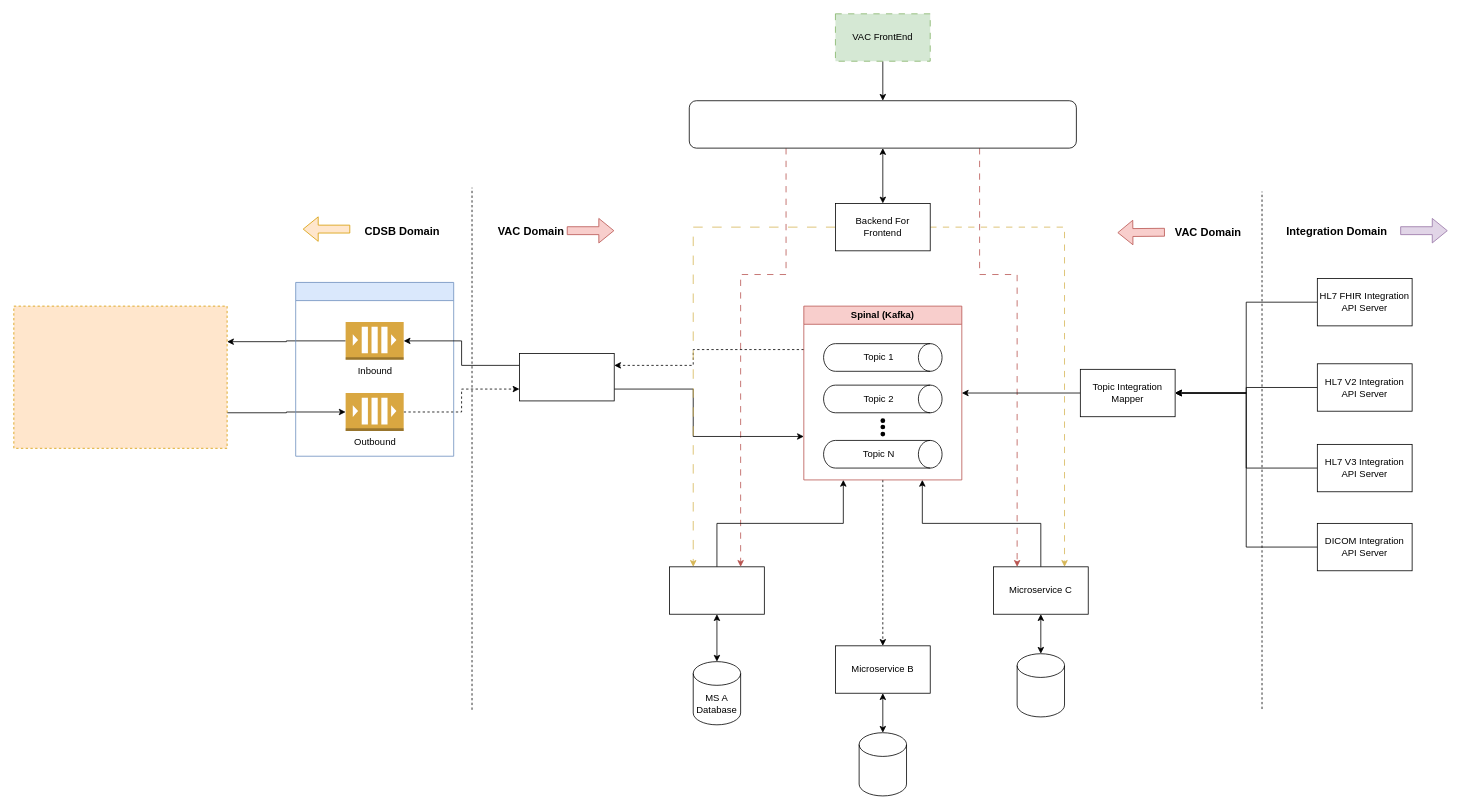
This 1462x810 diagram has some shape labels left out. Here are the shapes that lost their labels. From the top down, the centre of each, then its label:
At [882,124]: "API Gateway (Launchpad)".
At [120,376]: "CDSB Server".
At [374,369]: "RabbitMQ".
At [566,377]: "CDSB Mapper".
At [716,590]: "Microservice A".
At [1040,685]: "MS C Database".
At [882,764]: "MS B Database".
